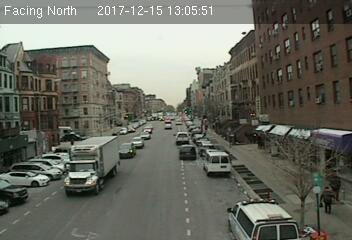car: (177, 144, 197, 161), (118, 143, 136, 157), (173, 131, 191, 145), (130, 137, 145, 147)
pedestrian: (319, 185, 336, 216)
police: (224, 197, 300, 240)
truck: (65, 136, 119, 198), (204, 151, 232, 175)
